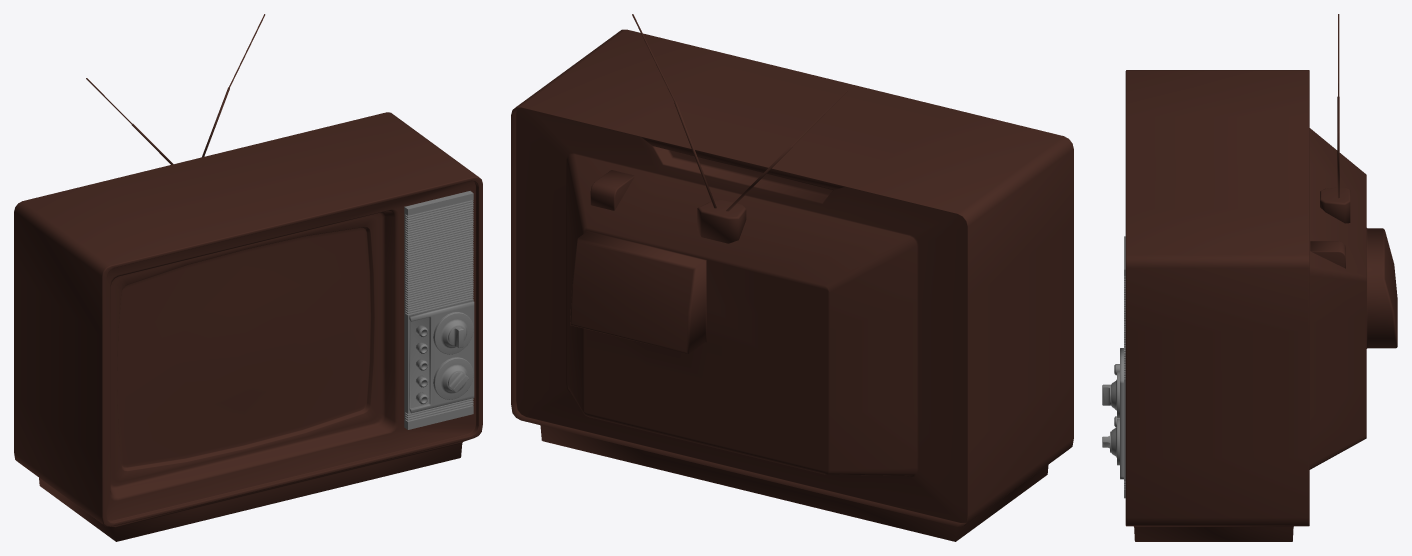
Rendered from Vintage TVnew.fbx.
The picture shows the model from 3 angles, left to right: view 1: azimuth 30°, elevation 25°; view 2: azimuth 150°, elevation 25°; view 3: azimuth 270°, elevation 25°; orthographic projection. The views are drawn at different scales.
Parts seen in each view (by area): view 1: Cube, Circle.001; view 2: Cube; view 3: Cube, Circle.001.
Part boxes in pixels (box(x1,y1,x2,y2)): Cube: box(14, 14, 482, 541); Circle.001: box(404, 191, 474, 429); Cube: box(511, 14, 1073, 541); Cube: box(1125, 14, 1397, 541); Circle.001: box(1102, 236, 1125, 498).
Size of the model in its own units: 430 by 428 by 279.
